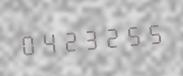five: (122, 17, 142, 51), (143, 15, 163, 49)
four: (38, 24, 58, 58)
three: (80, 21, 100, 55)
two: (59, 22, 79, 56), (101, 19, 121, 53)
zero: (17, 26, 37, 60)
